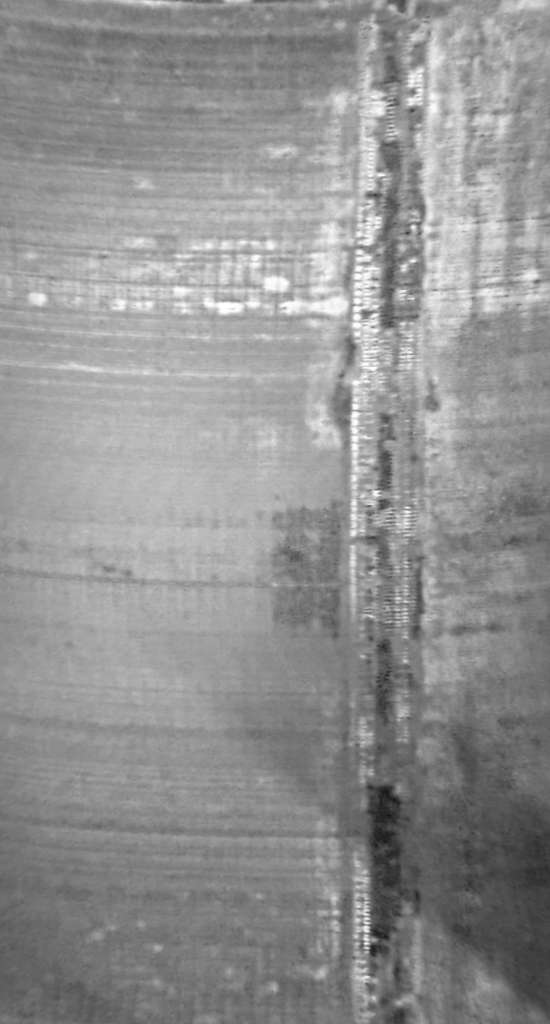splice: (346, 5, 434, 1024)
